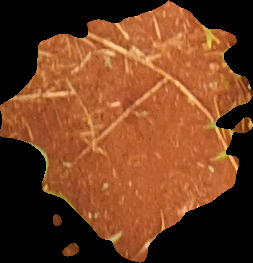soil: (1, 2, 252, 260)
